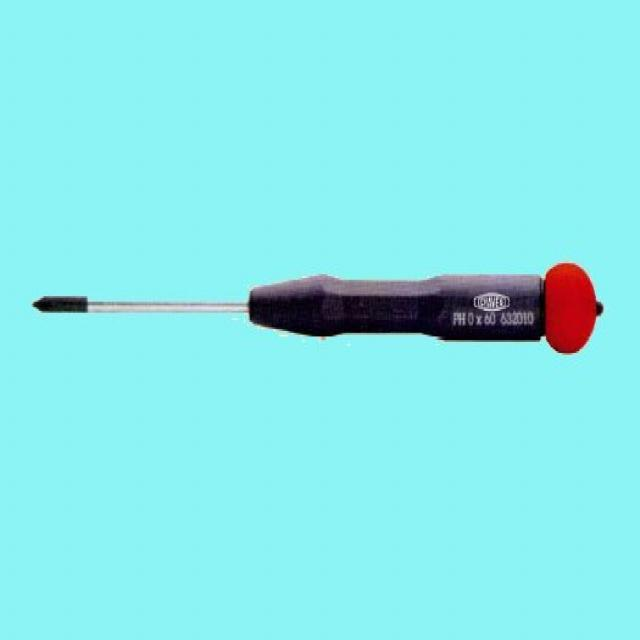screwdriver: (27, 248, 618, 368)
